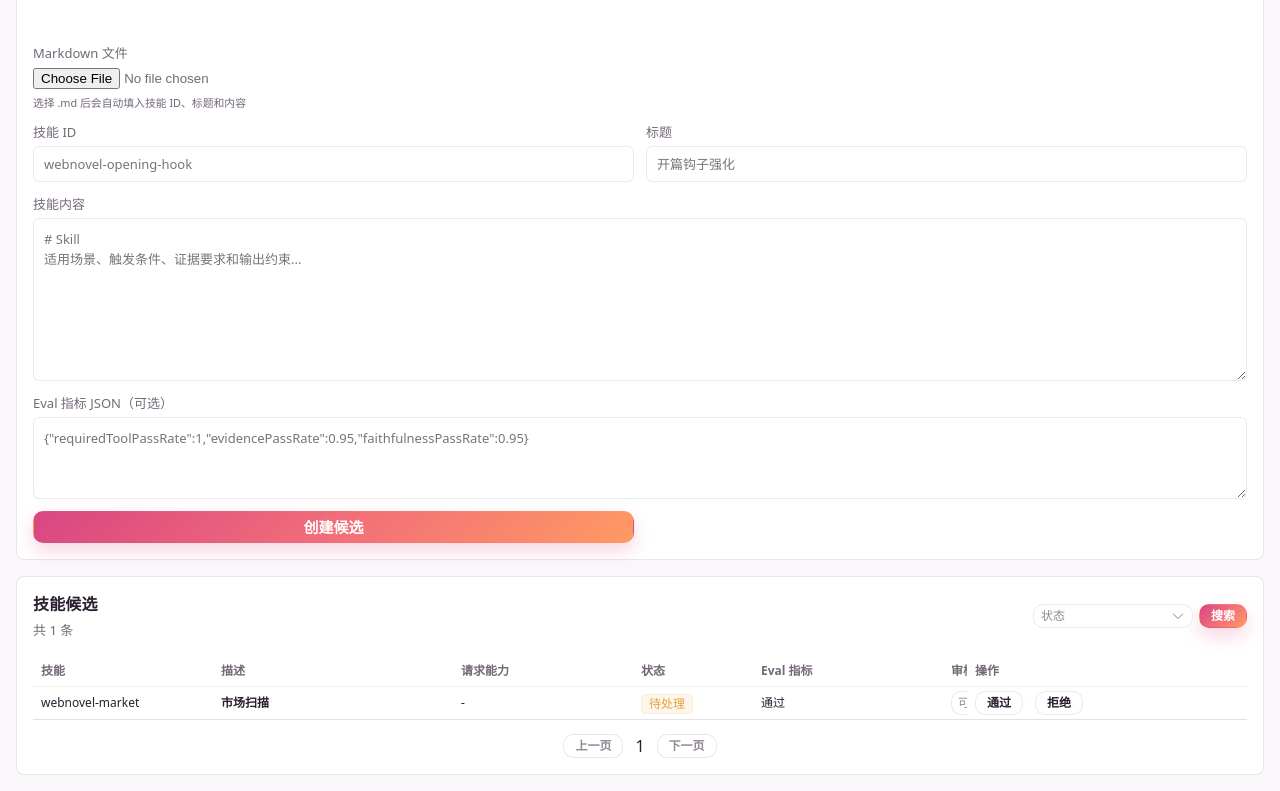
Test case: AdminSkillGovernanceView › renders runtime skills, paged candidates and approves a skill
The image size is (1280, 791).
(page scrolled)
Step 1. Click the button with test id "approve-skill" → (999, 703), box [975, 691, 1023, 715]
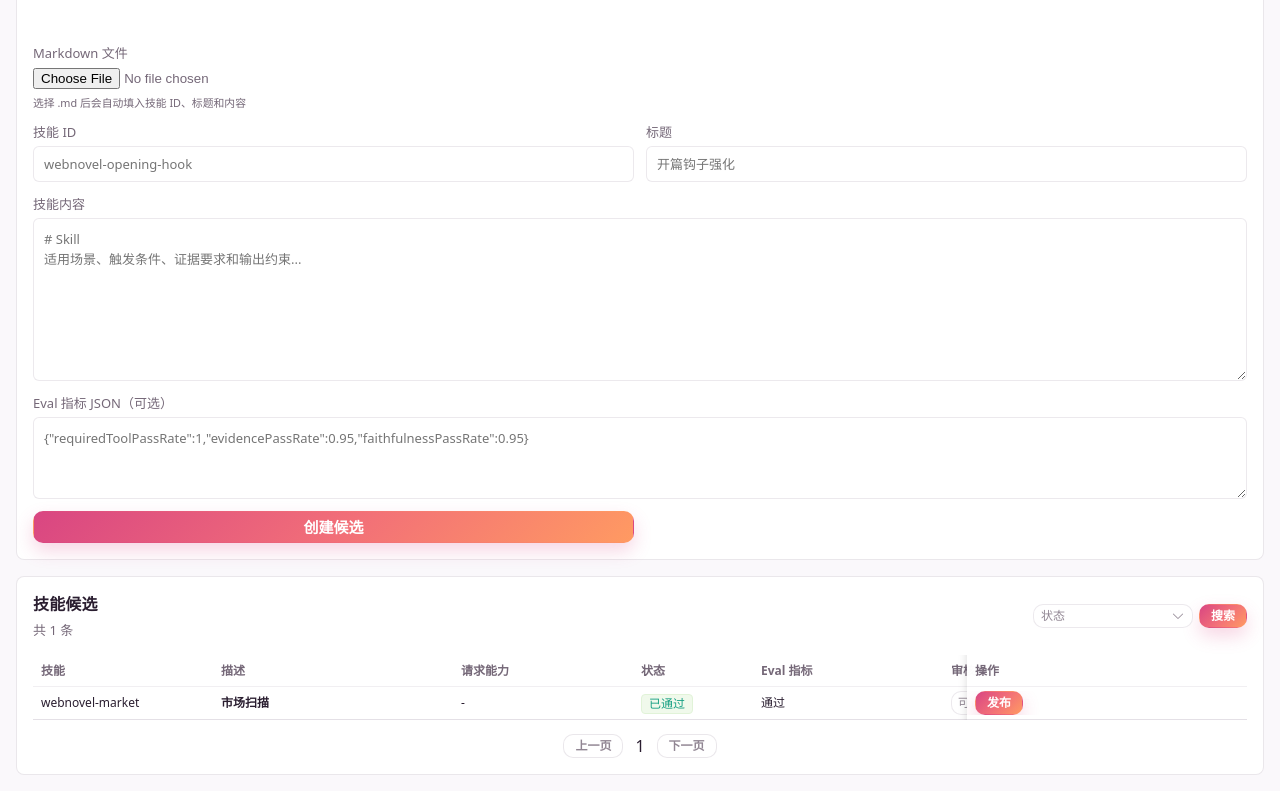
Check: the text "已通过" is shown, box [649, 698, 685, 710]
